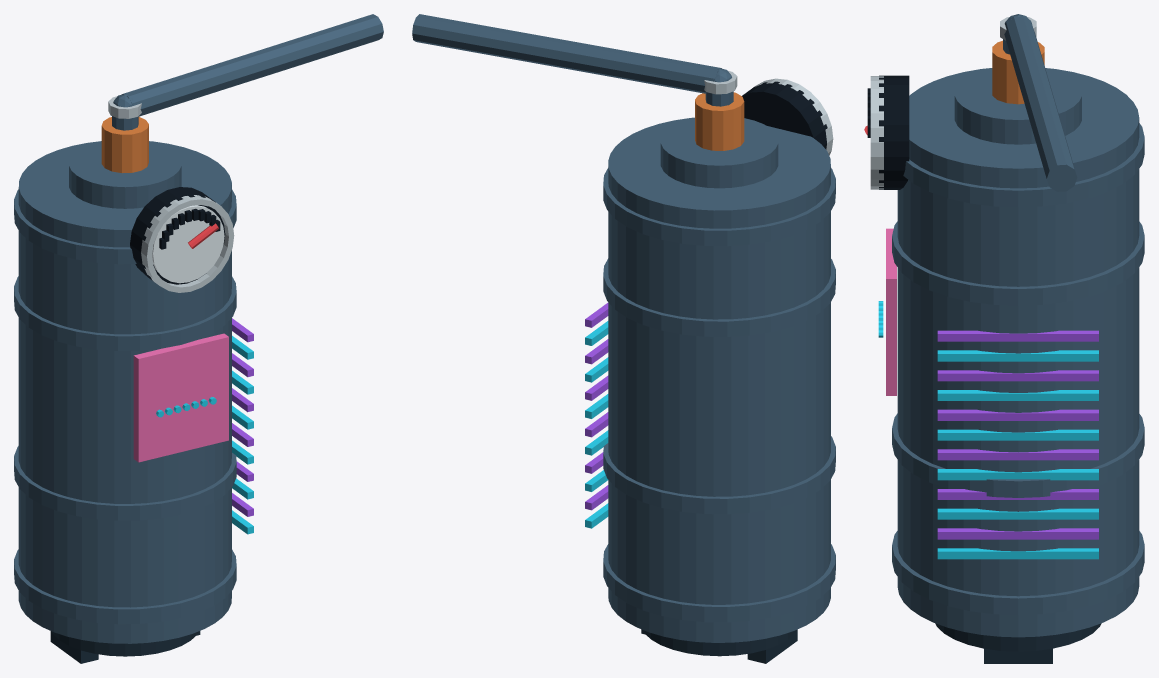
File: 05_L74_VirtualPhotoresistSupplyCartridge.fbx
3 renders of one model, left to right at view 1: azimuth 30°, elevation 25°; view 2: azimuth 150°, elevation 25°; view 3: azimuth 270°, elevation 25°, orthographic. The views are drawn at different scales.
Visible parts, largest first — view 1: VirtualPhotoresistSupplyCartridge; view 2: VirtualPhotoresistSupplyCartridge; view 3: VirtualPhotoresistSupplyCartridge.
Boxes of the visible parts, x1,y1,x2,y2 form: VirtualPhotoresistSupplyCartridge: [14, 14, 383, 663]; VirtualPhotoresistSupplyCartridge: [412, 14, 835, 663]; VirtualPhotoresistSupplyCartridge: [864, 14, 1144, 663].
Bounding box in the file's own units: 143 × 202 × 83.52.
